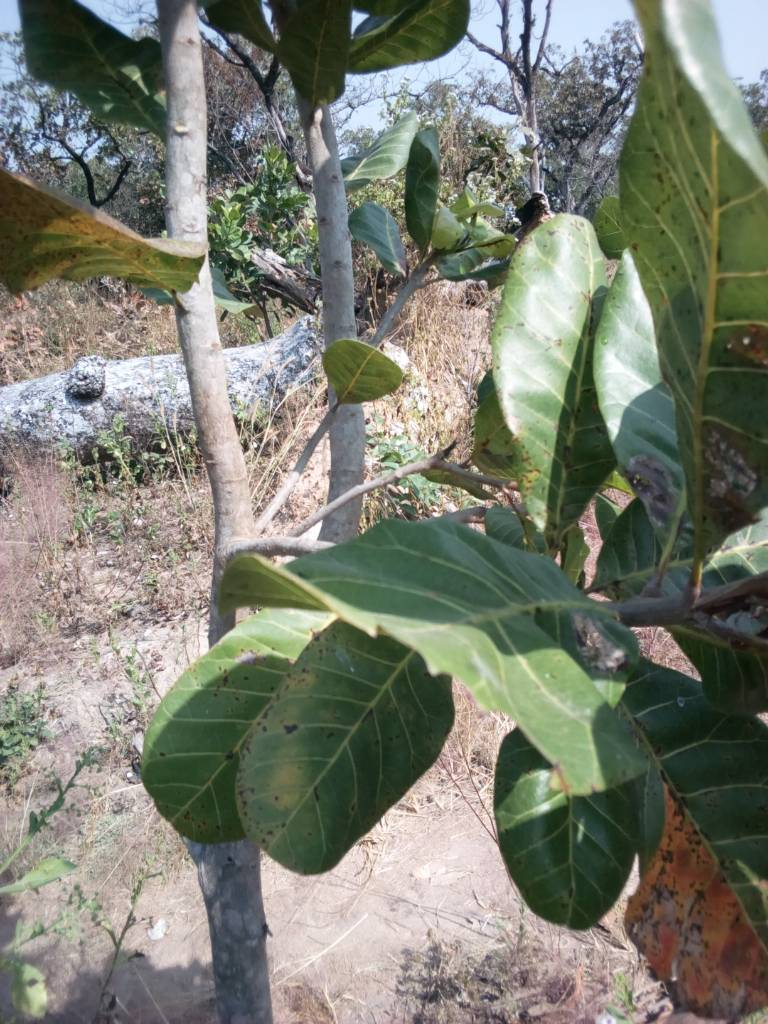Anthracnose: (613, 1, 766, 560), (122, 635, 438, 875), (1, 169, 196, 310)
